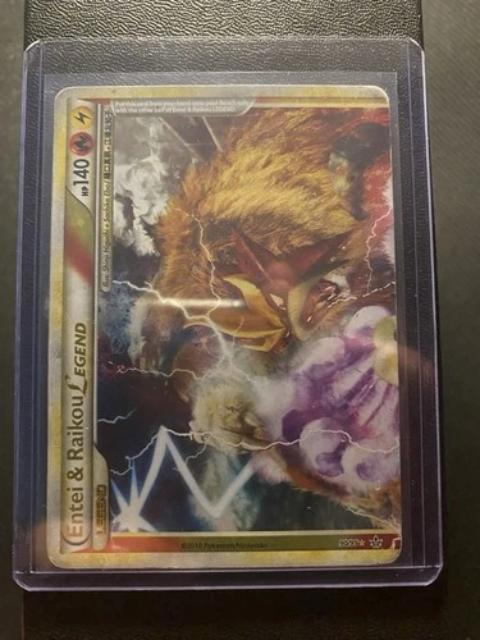Card: (42, 82, 409, 574)
Name: (54, 312, 94, 545)
